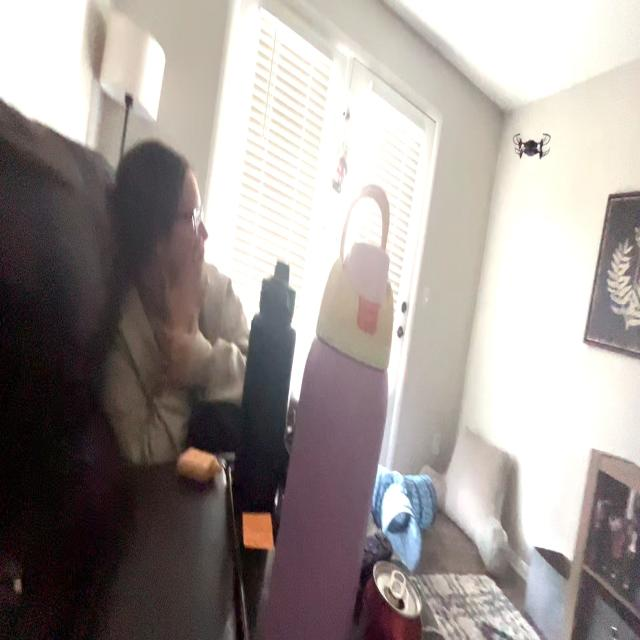drone: (506, 120, 554, 170)
